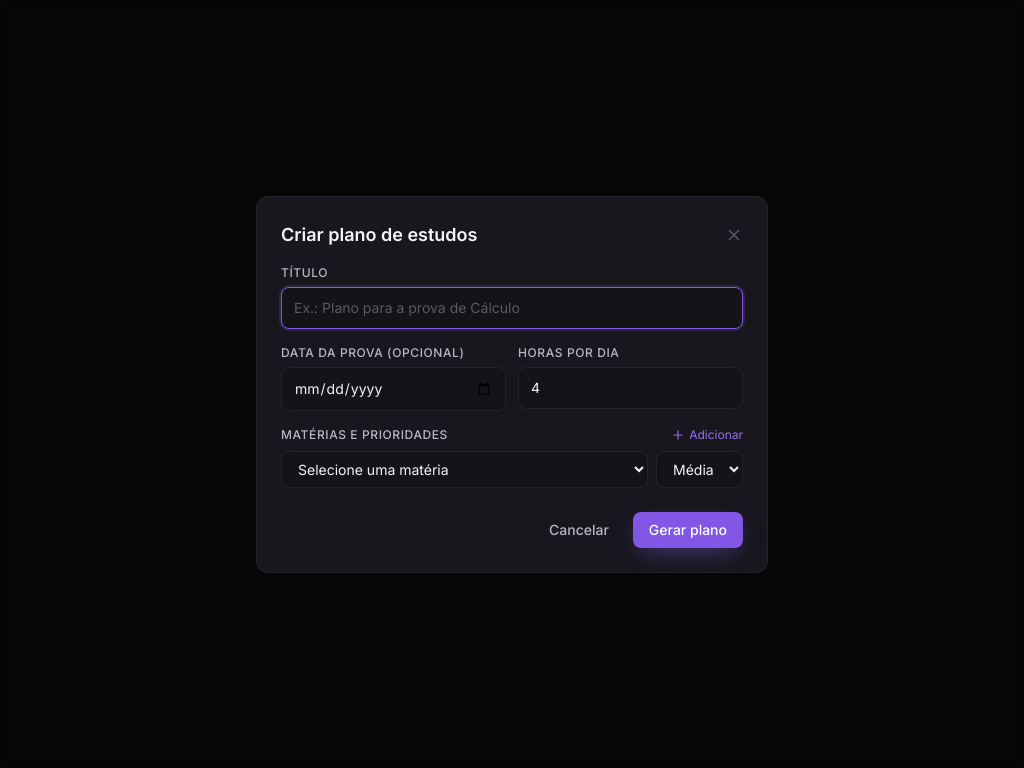
Test: GenerateStudyPlanModal › rejeita horas/dia <= 0
Type "Plano X" into the field labelled "Título".
click(512, 308); type("Plano X")  # box [281,286,743,328]
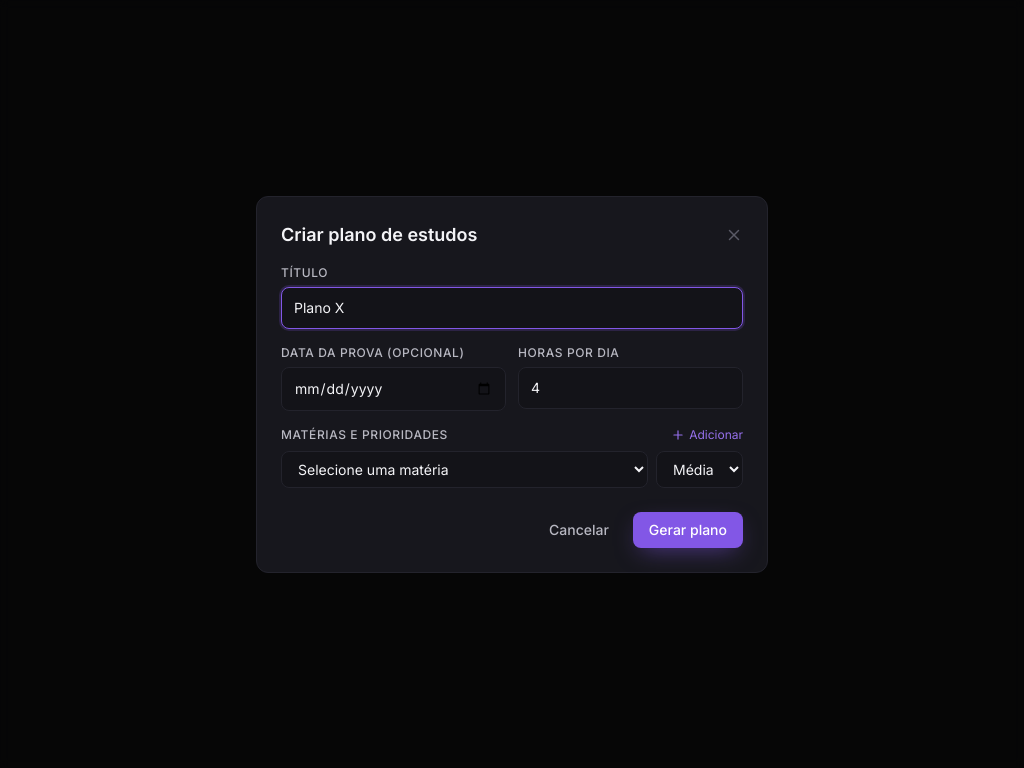
Replace the text in the number field labelled "Horas por dia" with "0" at (630,388), box [518,366,743,408]
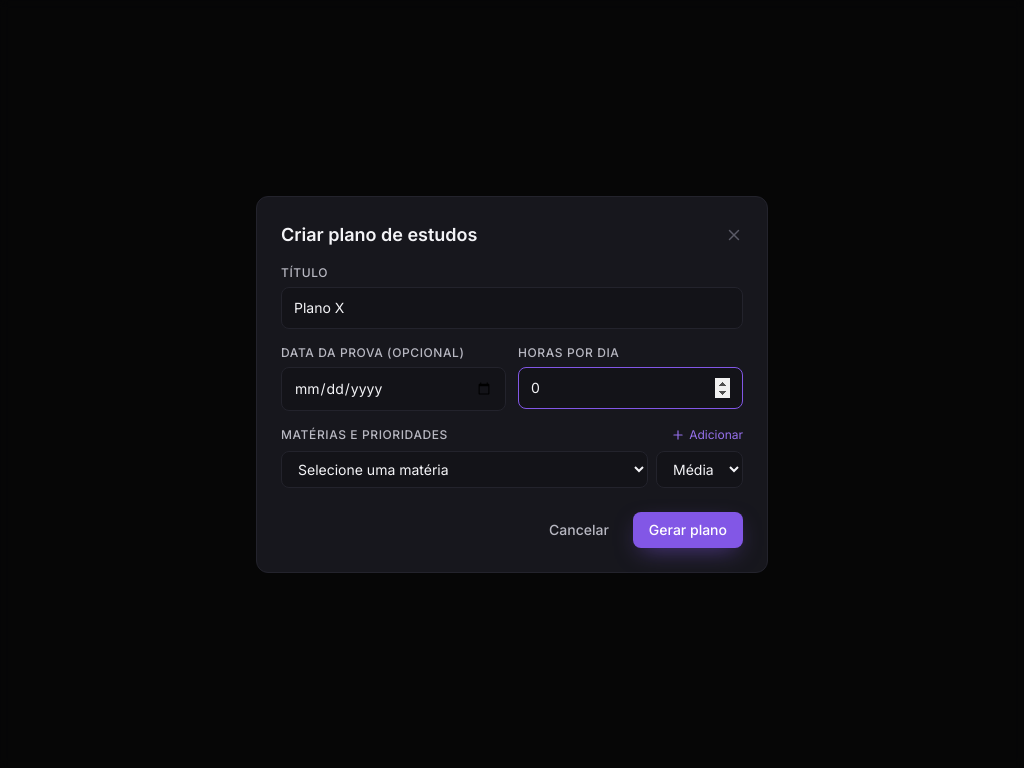
Select "Cálculo I" in the dropdown named "Matéria 1" at (464,469), box [281,450,648,488]
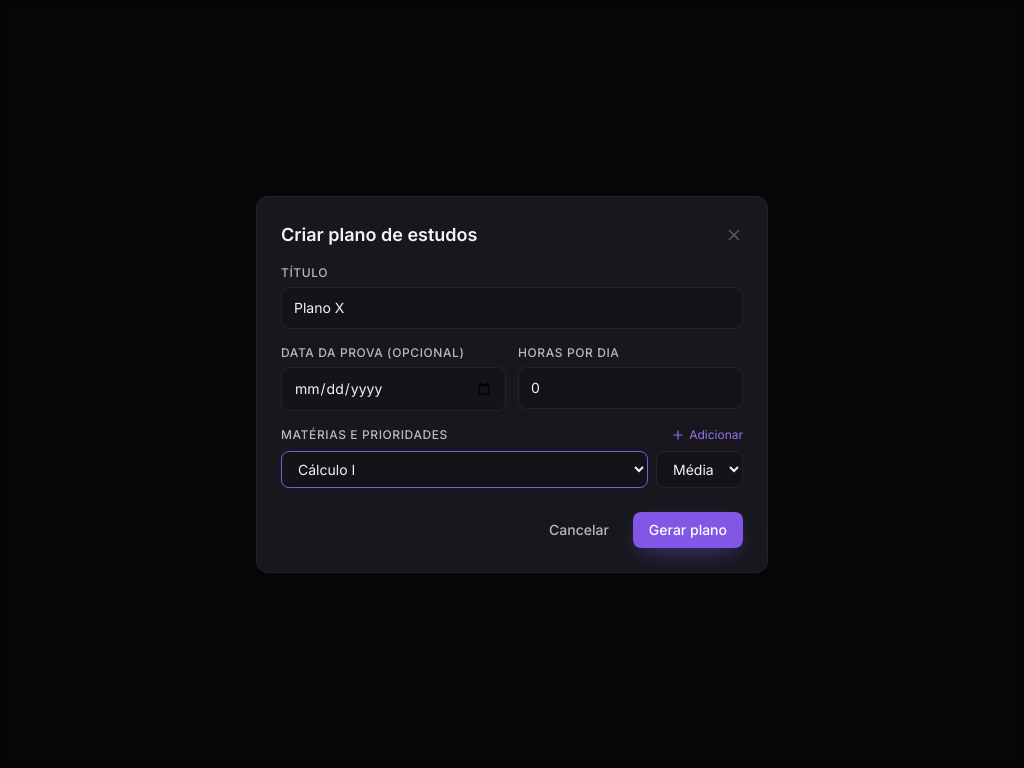
Click the button "Gerar plano".
click(688, 530)  # box [633,512,743,548]
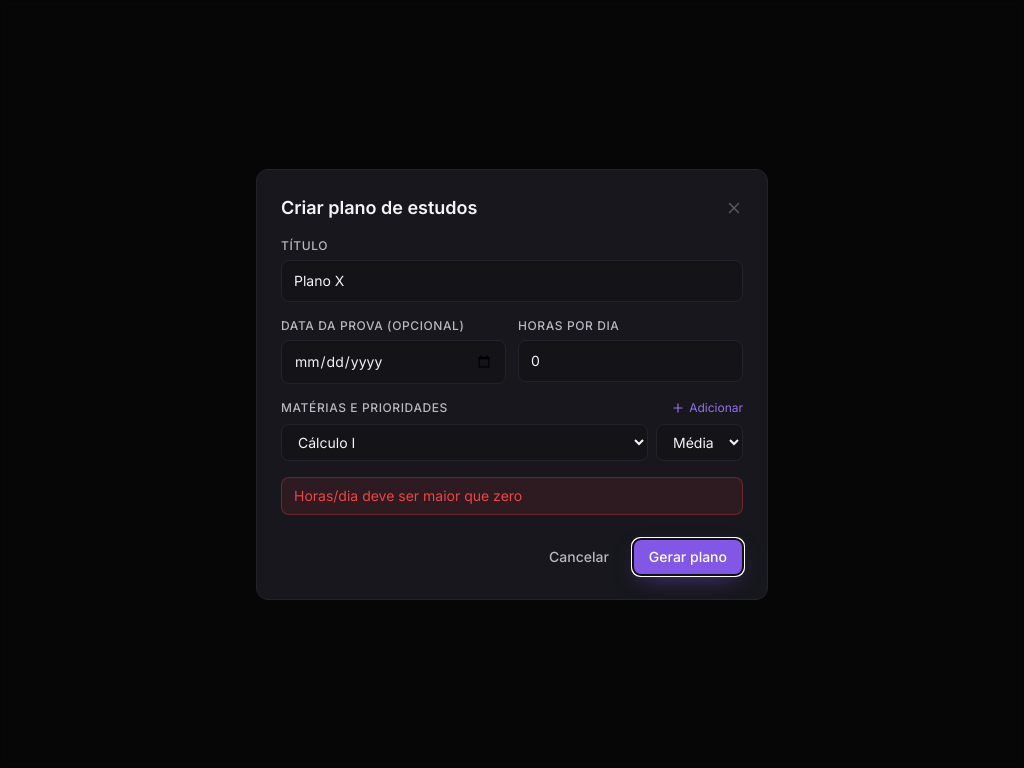
Expected: the text "Horas/dia deve ser maior que zero" is shown, [281,476,743,514]
